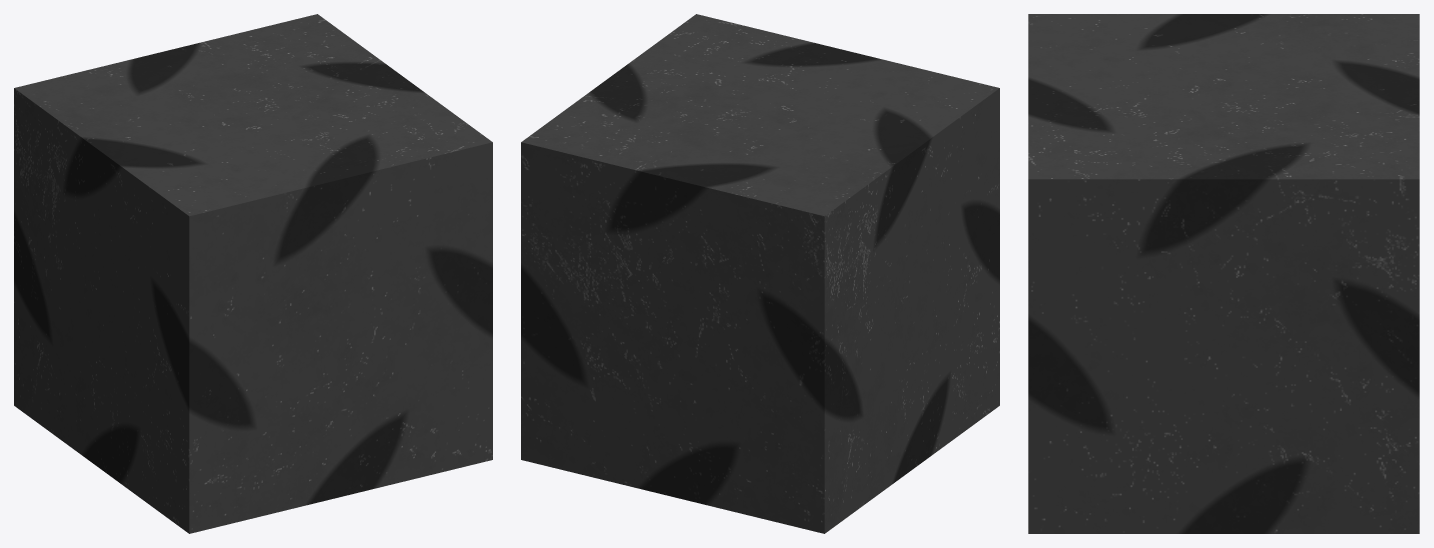
File: bodenplatteGLTF.gltf
3 renders of one model, left to right at view 1: azimuth 30°, elevation 25°; view 2: azimuth 150°, elevation 25°; view 3: azimuth 270°, elevation 25°, orthographic. The views are drawn at different scales.
Parts seen in each view (by area): view 1: Cube; view 2: Cube; view 3: Cube.
Boxes of the visible parts, x1,y1,x2,y2 form: Cube: [14, 14, 492, 533]; Cube: [521, 14, 999, 533]; Cube: [1028, 14, 1419, 533].
Size of the model in its own units: 2 by 2 by 2.
1 material, 1 textured.
